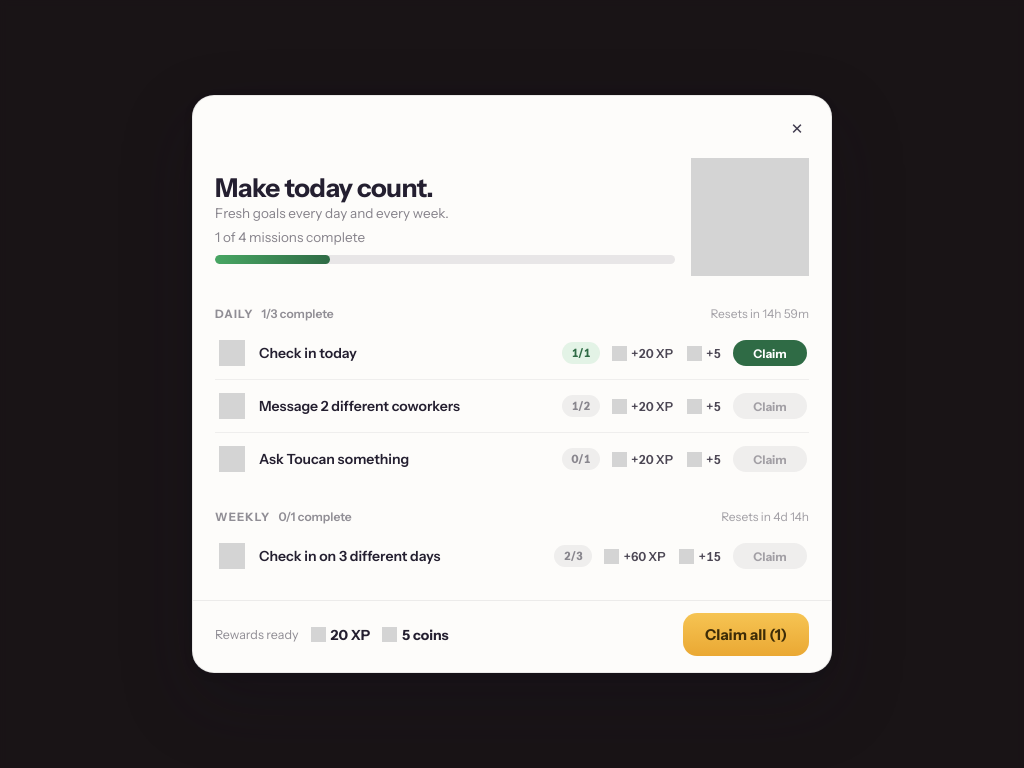
Test case: MissionsPanel › claims a completed mission with its period key and flips the row to Claimed
Click the button with aria-label "Claim reward" at x=770, y=353, box [733,340,807,366]
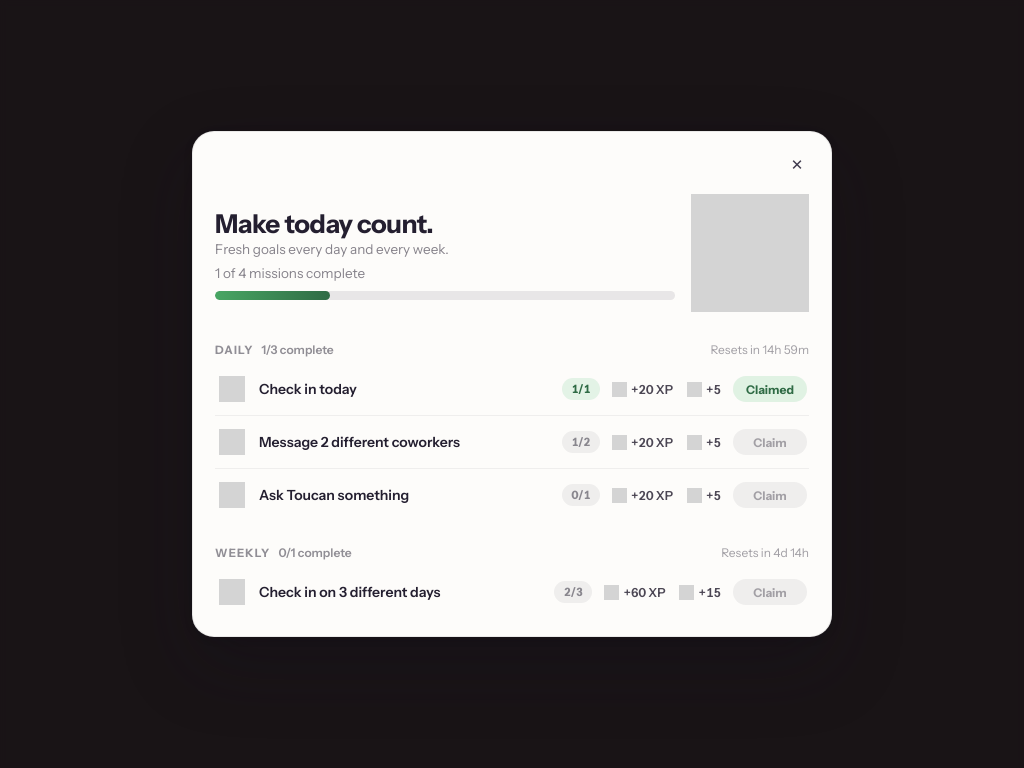
Result: the list item with test id "mission-daily_check_in" shows "Claimed" at [733,376,807,402]
